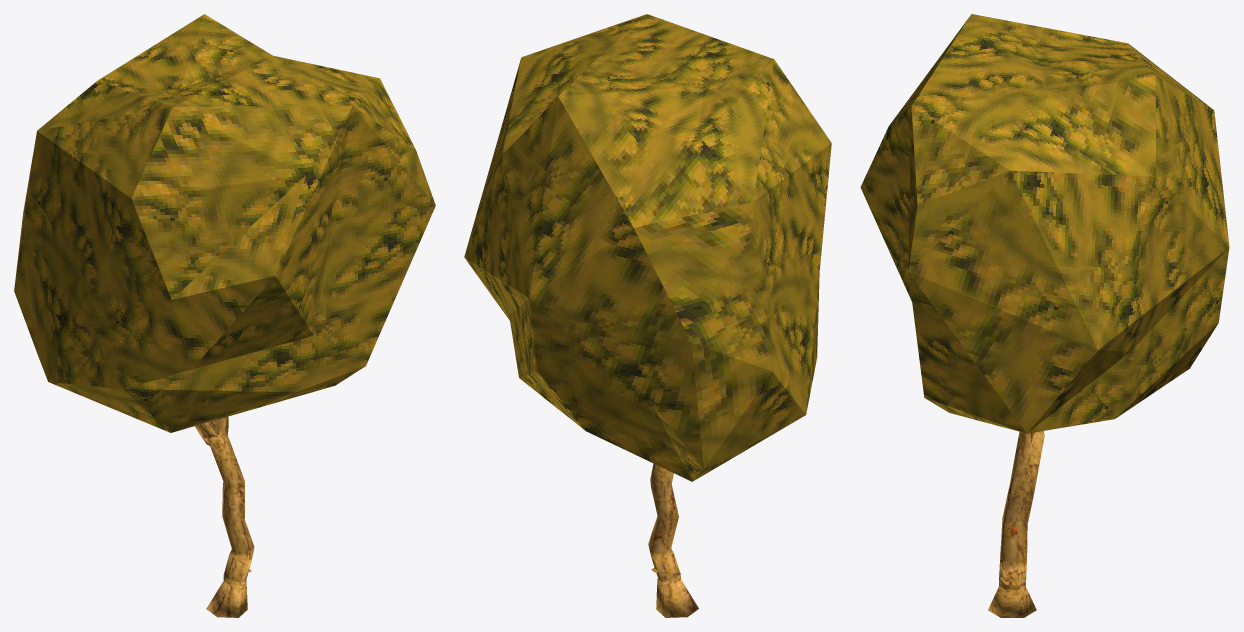
File: tree_yellow.glb
The picture shows the model from 3 angles, left to right: view 1: azimuth 30°, elevation 25°; view 2: azimuth 150°, elevation 25°; view 3: azimuth 270°, elevation 25°; orthographic projection. The views are drawn at different scales.
Parts seen in each view (by area): view 1: Cube.053; view 2: Cube.053; view 3: Cube.053.
Boxes of the visible parts, x1,y1,x2,y2 form: Cube.053: [14, 14, 435, 617]; Cube.053: [464, 14, 831, 617]; Cube.053: [860, 14, 1229, 617].
Bounding box in the file's own units: 26.69 × 42.98 × 25.73.
Materials: 2 (2 with a texture image).
